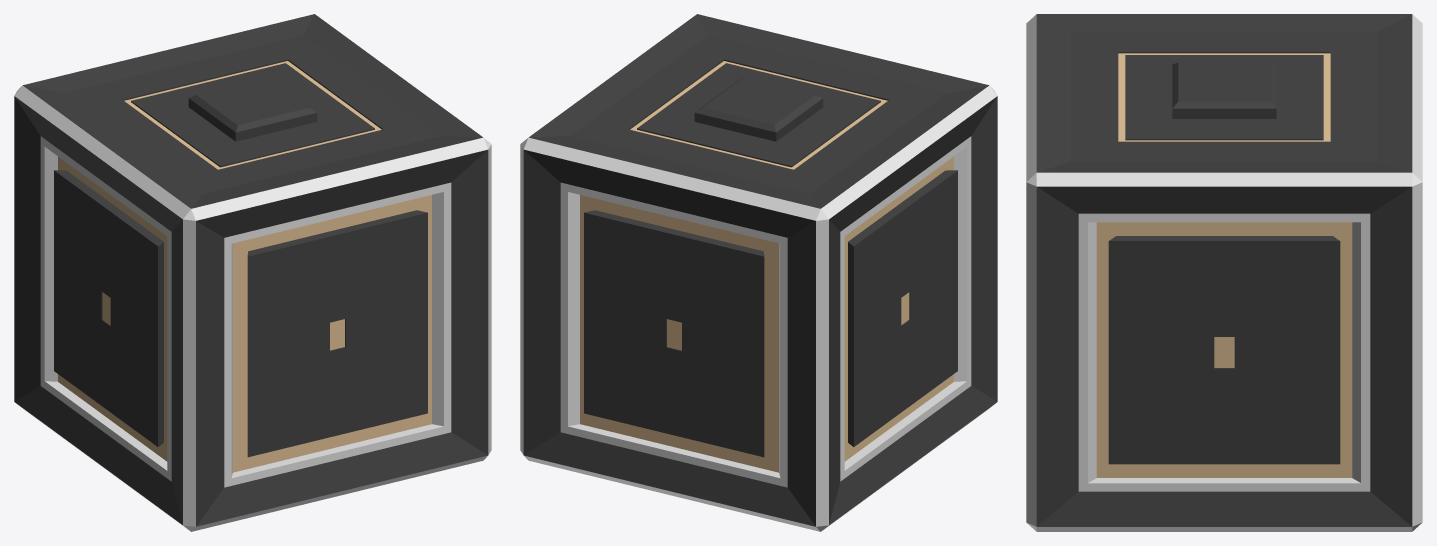
The picture shows the model from 3 angles, left to right: view 1: azimuth 30°, elevation 25°; view 2: azimuth 150°, elevation 25°; view 3: azimuth 270°, elevation 25°; orthographic projection. The views are drawn at different scales.
Visible parts, largest first — view 1: Cube; view 2: Cube; view 3: Cube.
Boxes of the visible parts, x1,y1,x2,y2 form: Cube: [14, 14, 491, 531]; Cube: [520, 14, 997, 531]; Cube: [1026, 14, 1422, 531].
Size of the model in its own units: 200 by 213 by 200.
